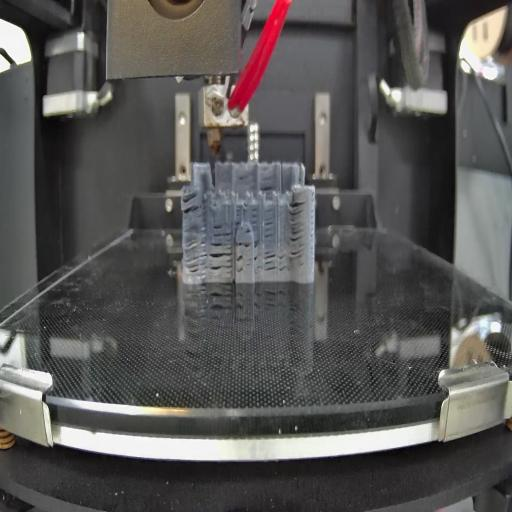cracks: (184, 226, 208, 273), (208, 240, 233, 274), (290, 201, 305, 257), (181, 193, 200, 215), (263, 209, 274, 239), (212, 224, 234, 238), (264, 248, 276, 273), (237, 238, 258, 252), (250, 206, 259, 226), (236, 254, 244, 275), (234, 204, 241, 226), (280, 253, 286, 274), (254, 254, 260, 273), (261, 184, 275, 192), (243, 227, 252, 236)
